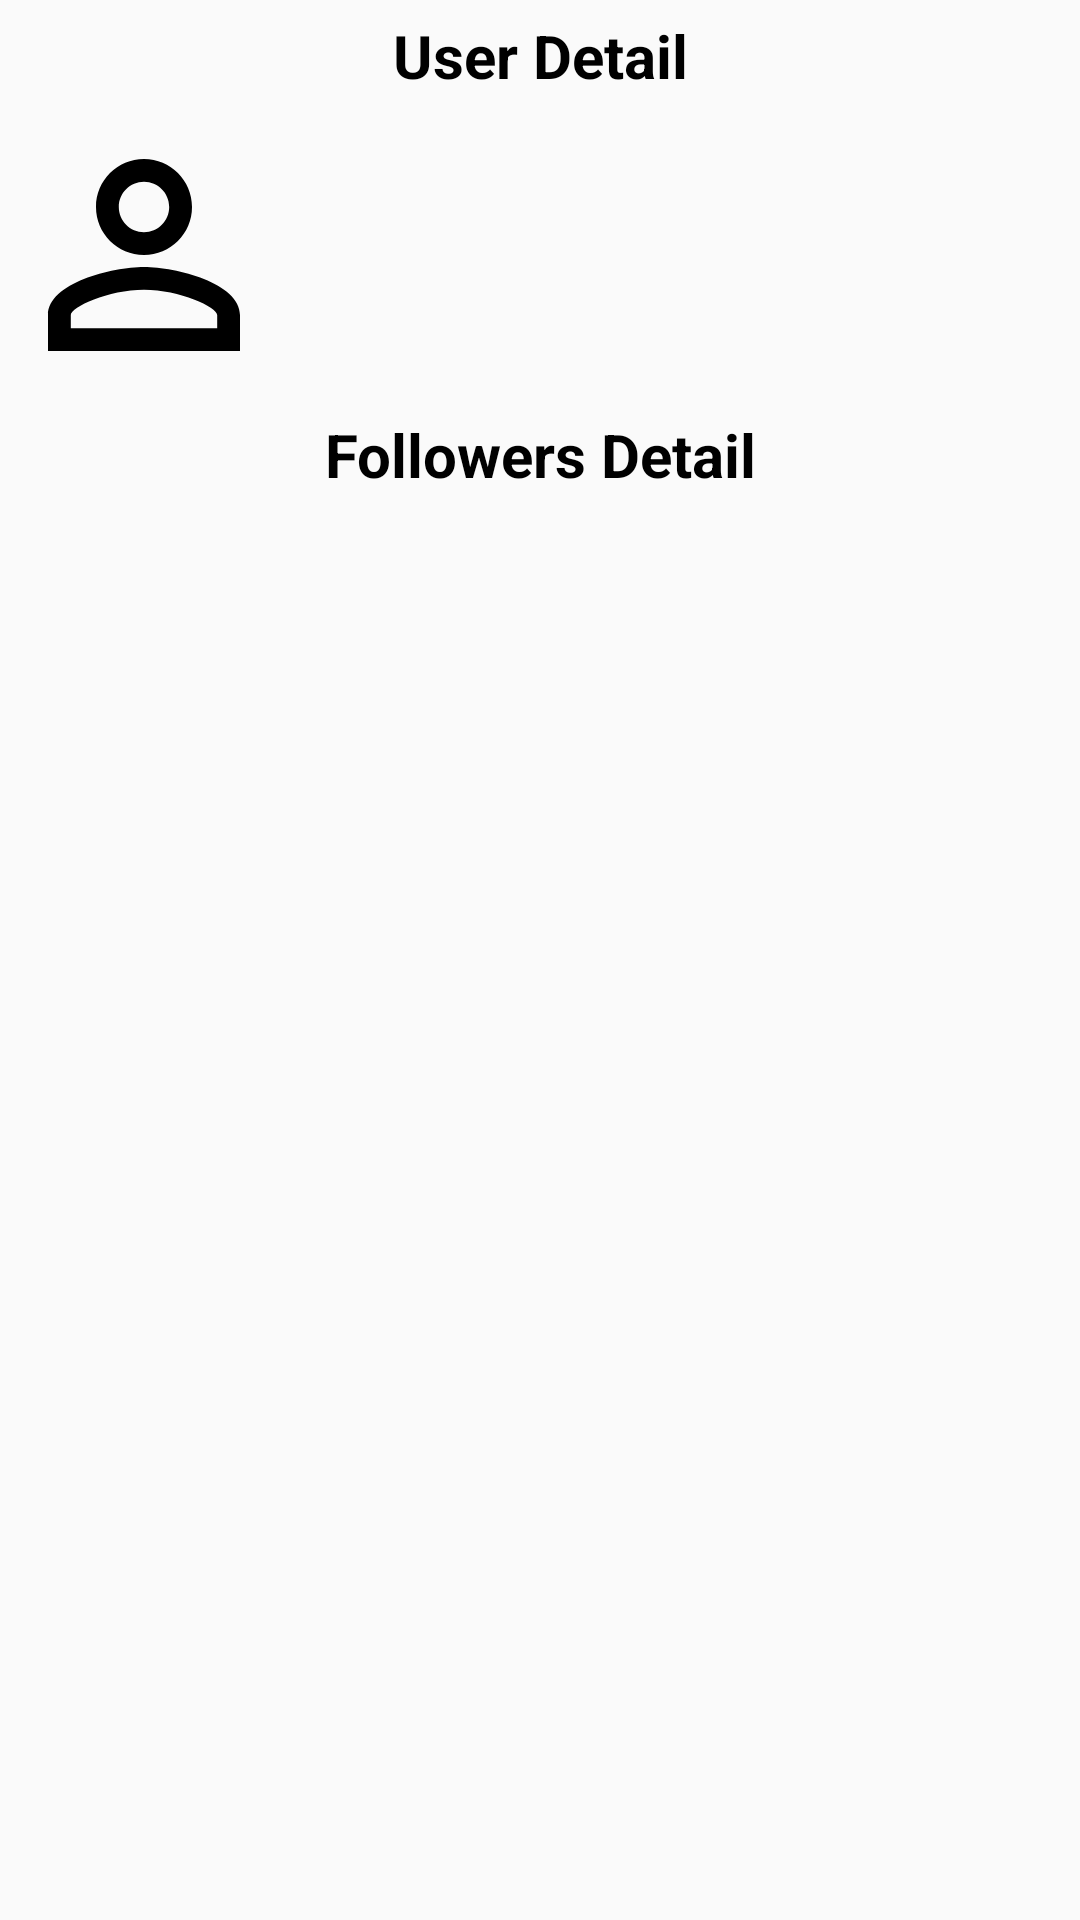

Icons on this 1080*1920 Android screen, each with the point to tap as [x,y]:
person stub: [144,255]
